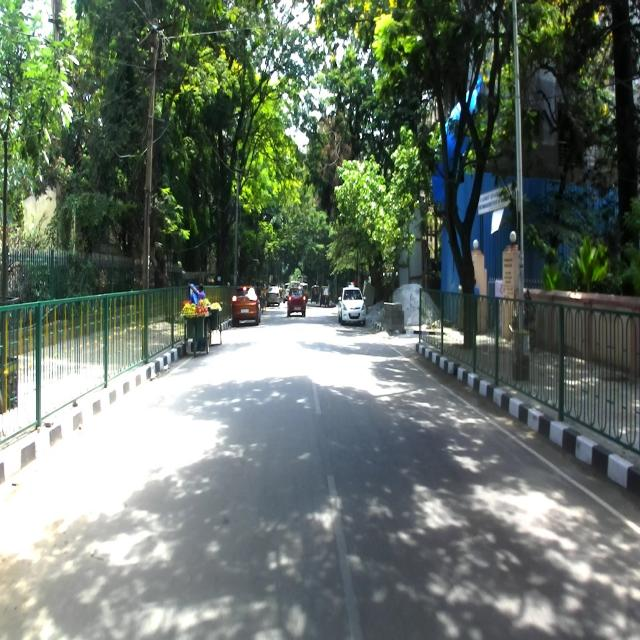Car_Hyundai: (338, 284, 366, 326)
motorcycle: (508, 287, 537, 351)
